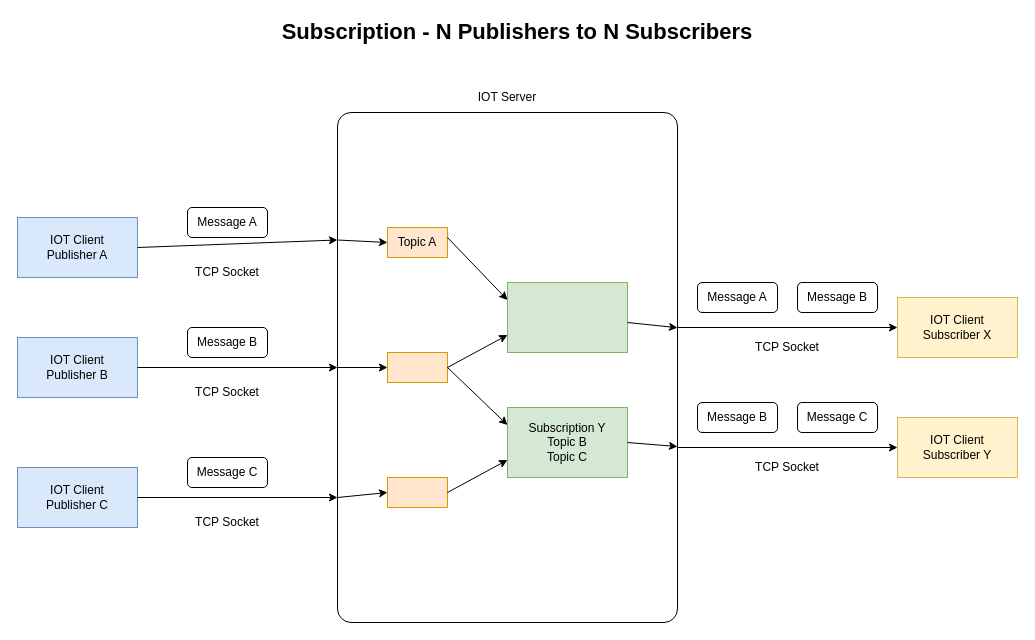
The diagram is 1035 pixels wide and 640 high, and some of its shapes have lost their labels. Here are the shapes that lost their labels. From the top down, the centre of each, then its label:
At (x=567, y=317): "Subscription X Topic A Topic B".
At (x=417, y=367): "Topic B".
At (x=417, y=492): "Topic C".
